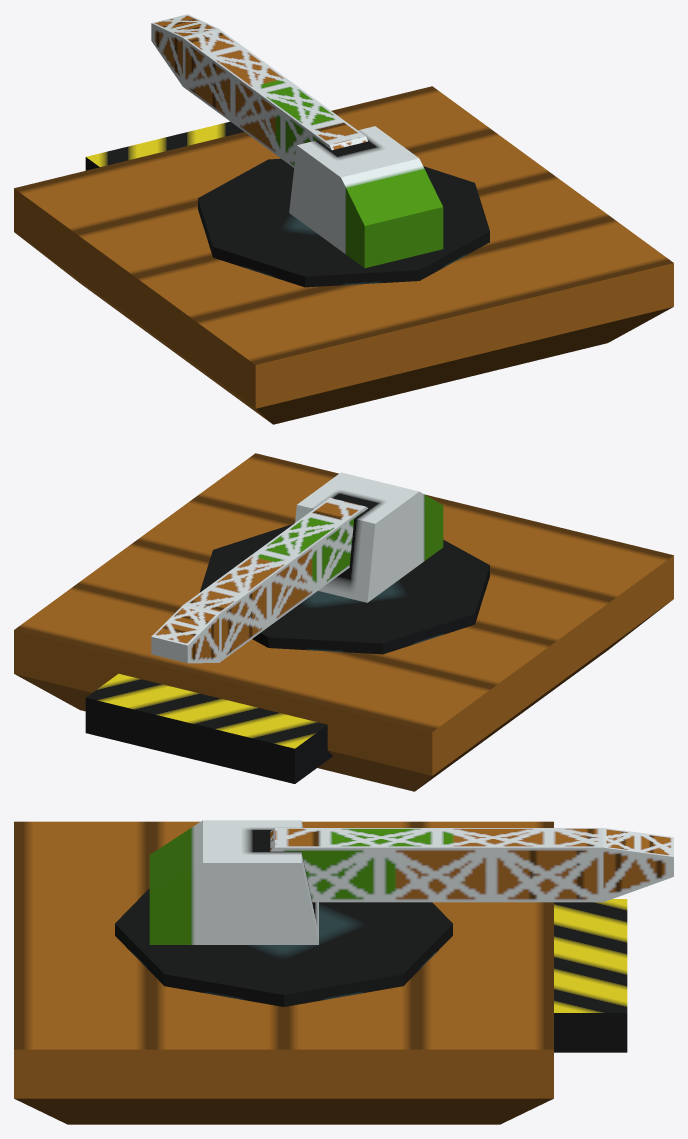
Rendered from dock.fbx.
3 renders of one model, top to bottom at view 1: azimuth 30°, elevation 25°; view 2: azimuth 150°, elevation 25°; view 3: azimuth 270°, elevation 25°, orthographic. The views are drawn at different scales.
Visible parts, largest first — view 1: dock, dock.crane, dock.crane_arm; view 2: dock, dock.crane_arm, dock.crane; view 3: dock, dock.crane_arm, dock.crane.
Part boxes in pixels (x1,y1,x2,y2): dock: (14, 86, 673, 424); dock.crane: (289, 126, 443, 268); dock.crane_arm: (151, 14, 367, 167); dock: (14, 453, 673, 791); dock.crane_arm: (151, 498, 367, 663); dock.crane: (295, 472, 443, 602); dock: (14, 821, 627, 1124); dock.crane_arm: (270, 828, 673, 902); dock.crane: (149, 820, 318, 944).
Bounding box in the file's own units: 400 × 160 × 489.
2 materials, 2 textured.
